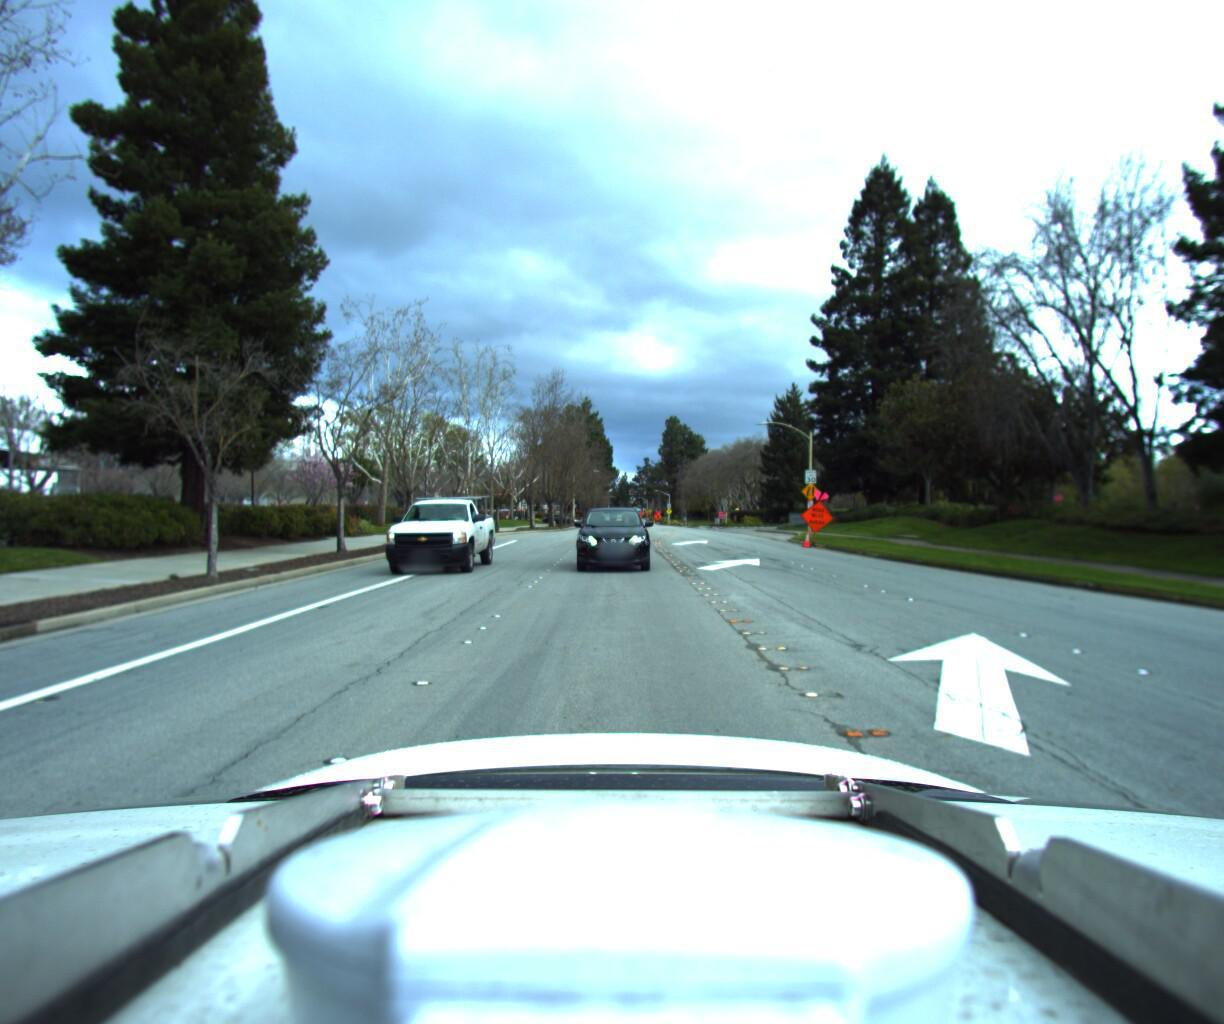car: (371, 485, 502, 573), (573, 499, 649, 569)
